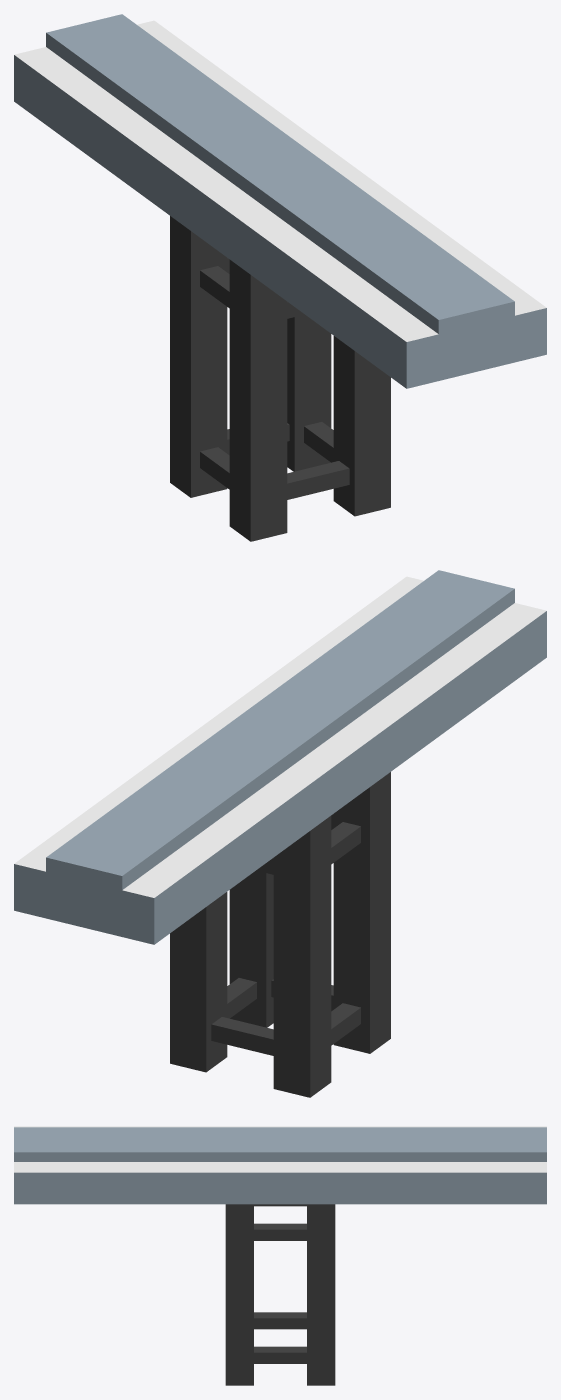
The model's file is monorailTrack_straight_exclusive.fbx.
3 renders of one model, top to bottom at view 1: azimuth 30°, elevation 25°; view 2: azimuth 150°, elevation 25°; view 3: azimuth 270°, elevation 25°, orthographic. The views are drawn at different scales.
Parts seen in each view (by area): view 1: monorailTrack_straight_exclusive; view 2: monorailTrack_straight_exclusive; view 3: monorailTrack_straight_exclusive.
Part boxes in pixels (bbox=[...]): monorailTrack_straight_exclusive: bbox=[14, 14, 546, 541]; monorailTrack_straight_exclusive: bbox=[14, 570, 546, 1097]; monorailTrack_straight_exclusive: bbox=[14, 1126, 546, 1385].
Size of the model in its own units: 2.06 by 4.61 by 10.
